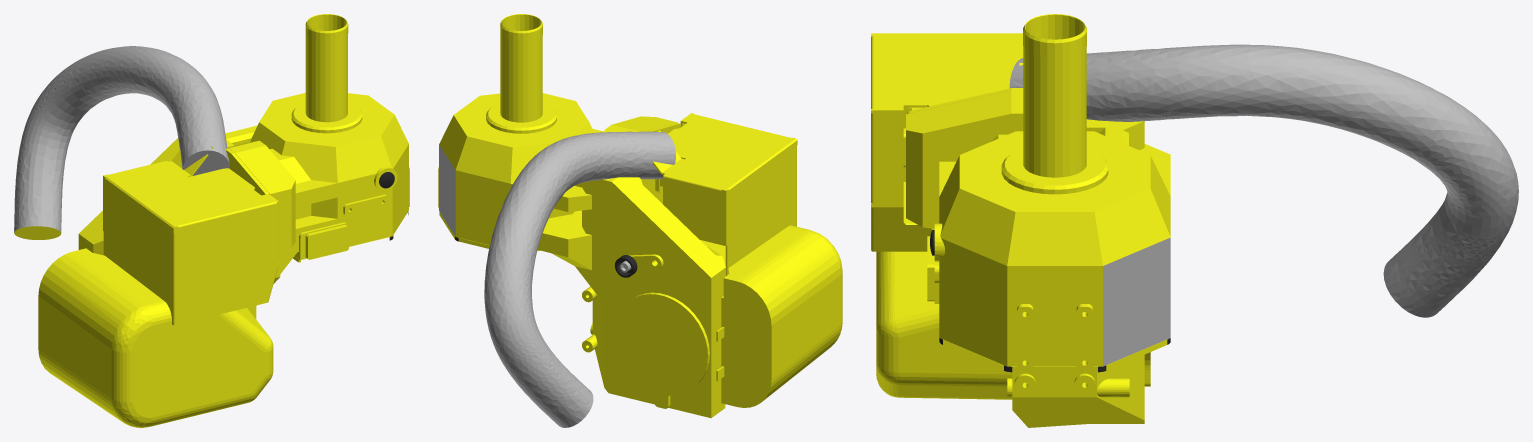
3 views of the same model, side by side, from view 1: azimuth 30°, elevation 25°; view 2: azimuth 150°, elevation 25°; view 3: azimuth 270°, elevation 25° (orthographic). The views are drawn at different scales.
Parts seen in each view (by area): view 1: node; view 2: node; view 3: node.
Part boxes in pixels (x1,y1,x2,y2): node: (14, 14, 409, 427); node: (438, 14, 842, 427); node: (871, 14, 1518, 427).
Size of the model in its own units: 496 by 454 by 543.
